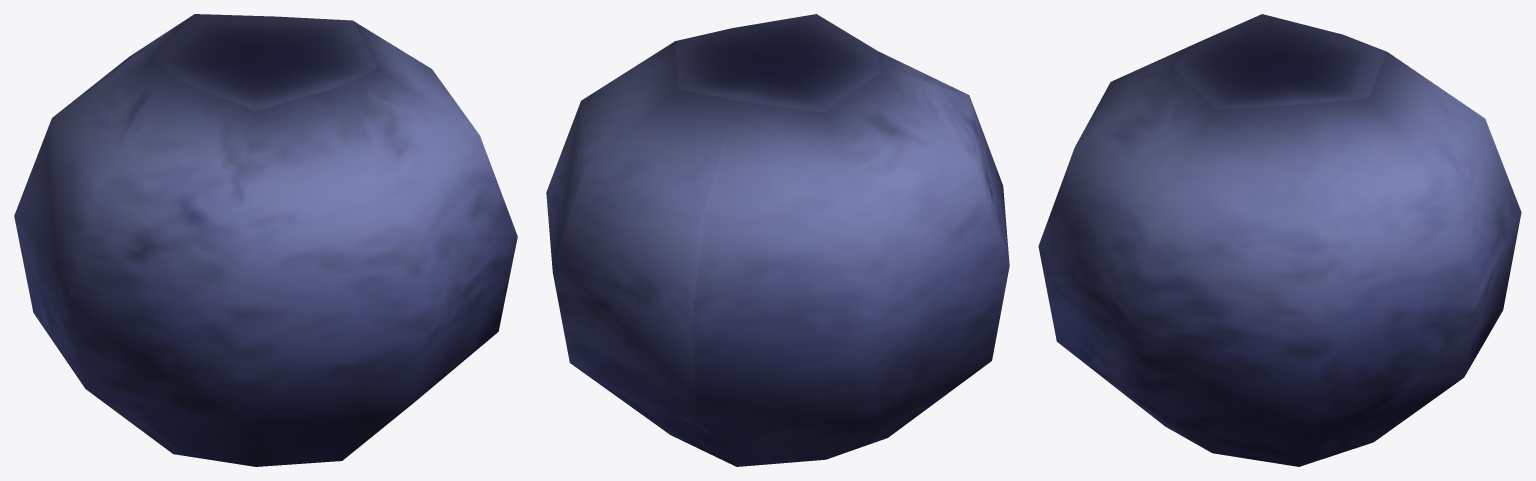
Rendered from Blueberry.fbx.
3 views of the same model, side by side, from view 1: azimuth 30°, elevation 25°; view 2: azimuth 150°, elevation 25°; view 3: azimuth 270°, elevation 25° (orthographic). The views are drawn at different scales.
Visible parts, largest first — view 1: Blueberry; view 2: Blueberry; view 3: Blueberry.
Part boxes in pixels (<box>): Blueberry: <box>14,14,517,466</box>; Blueberry: <box>546,14,1009,466</box>; Blueberry: <box>1038,14,1521,466</box>.
Size of the model in its own units: 10.84 by 8.9 by 10.84.
